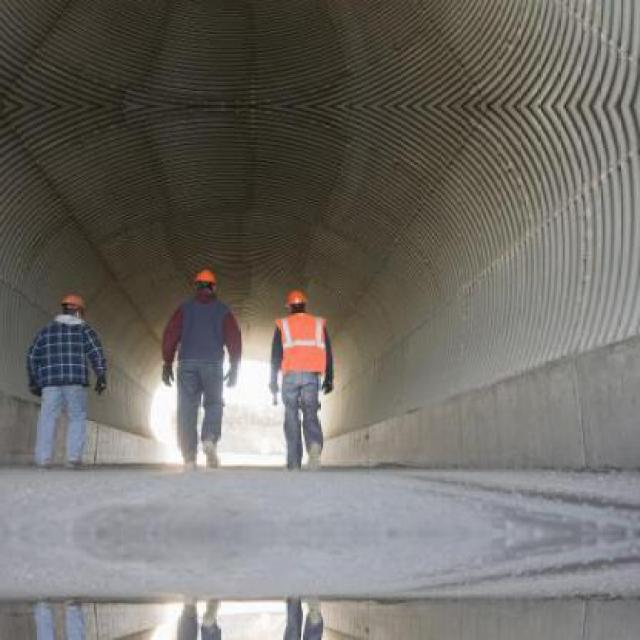Reflective-Jacket: (269, 310, 337, 389)
Safety-Helmet: (57, 288, 91, 316), (189, 265, 223, 293), (281, 284, 314, 312)
